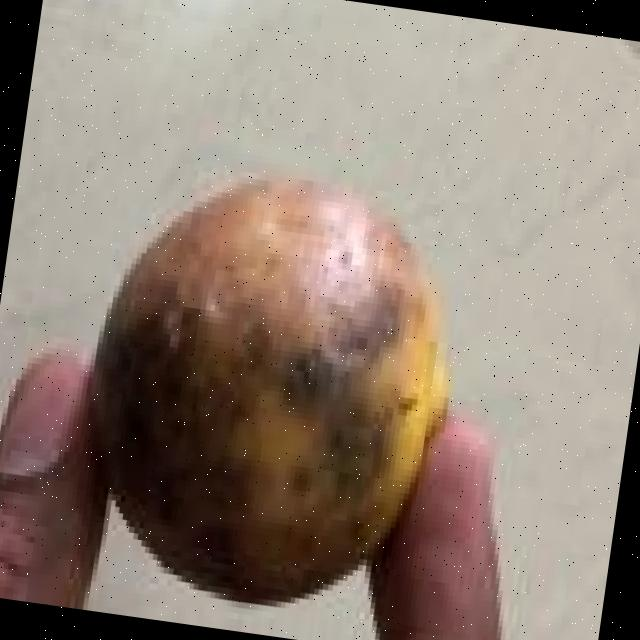Bad_Lime-0-1-day: (86, 172, 440, 608)
